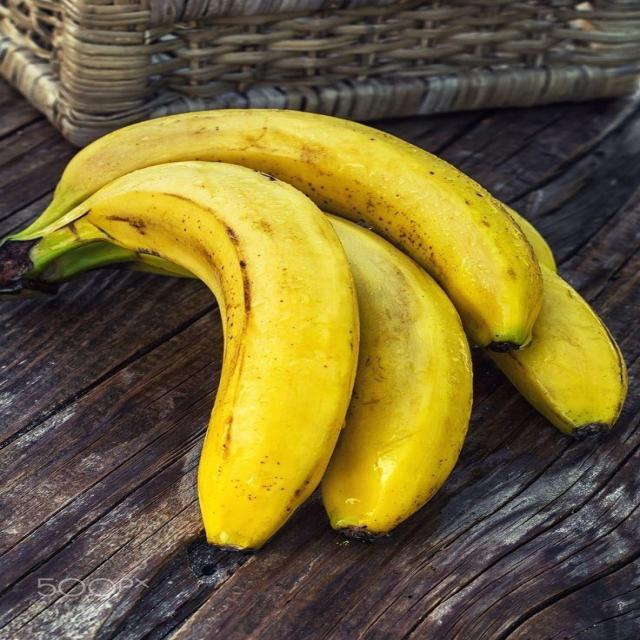banana: (4, 106, 640, 562), (35, 164, 342, 563)
